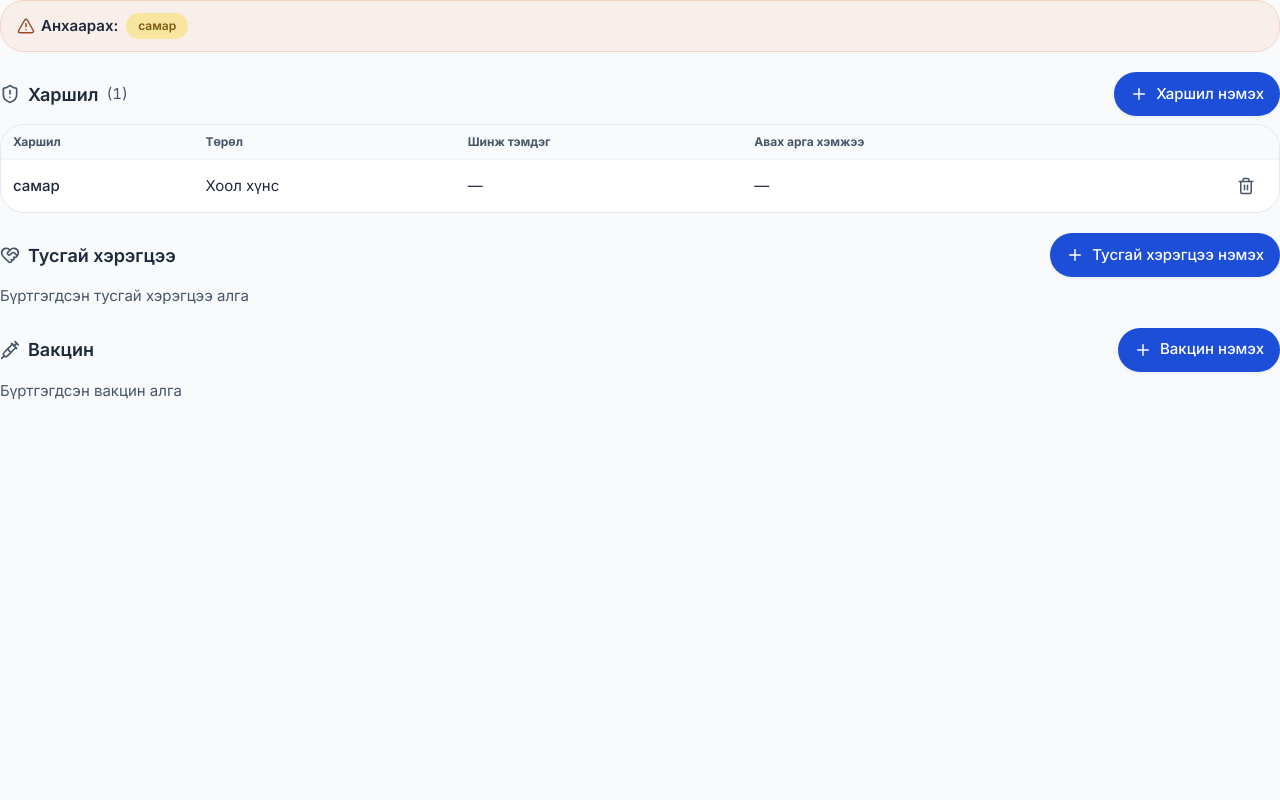
it: устгах — харшил › cancelling sends no request
The image size is (1280, 800).
Click the button named "самар — устгах" at (1246, 186), box [1221,164,1271,208]
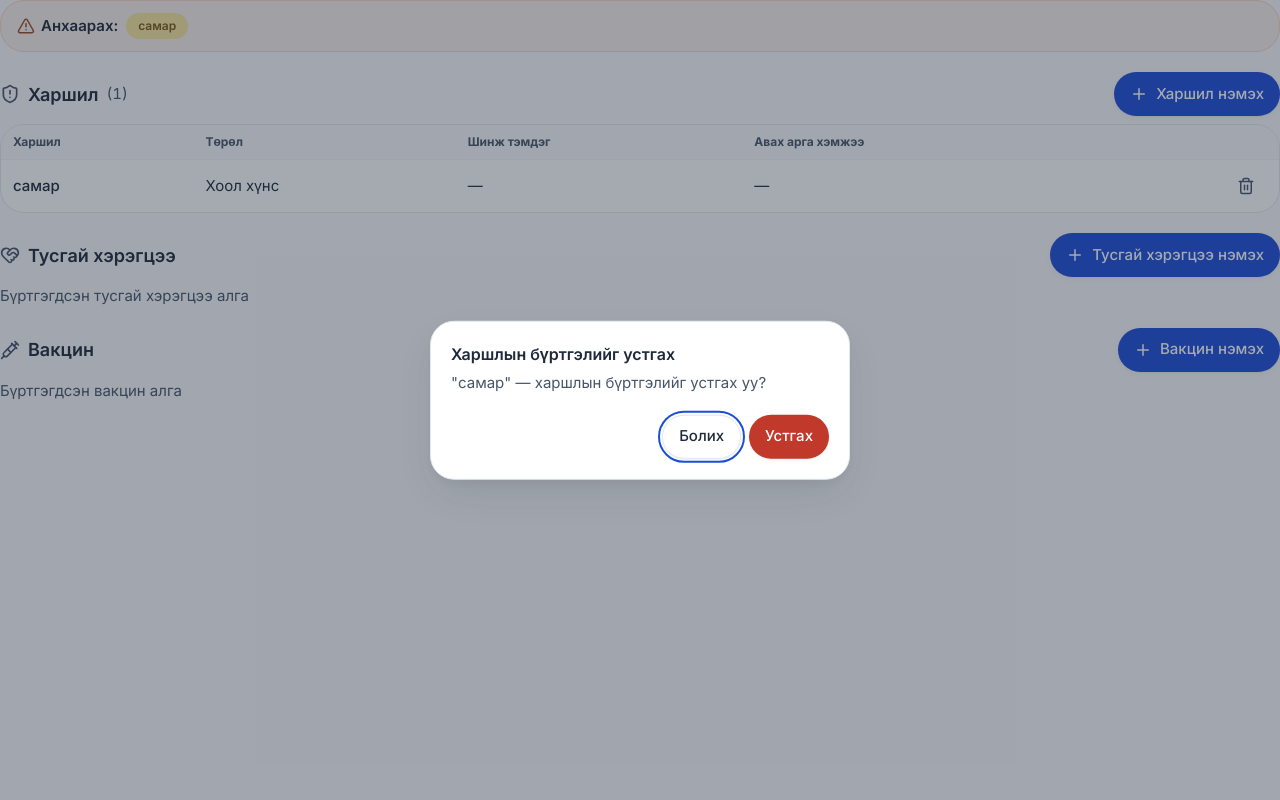
Click the button "Болих" at (702, 436), box [662,414,741,458]
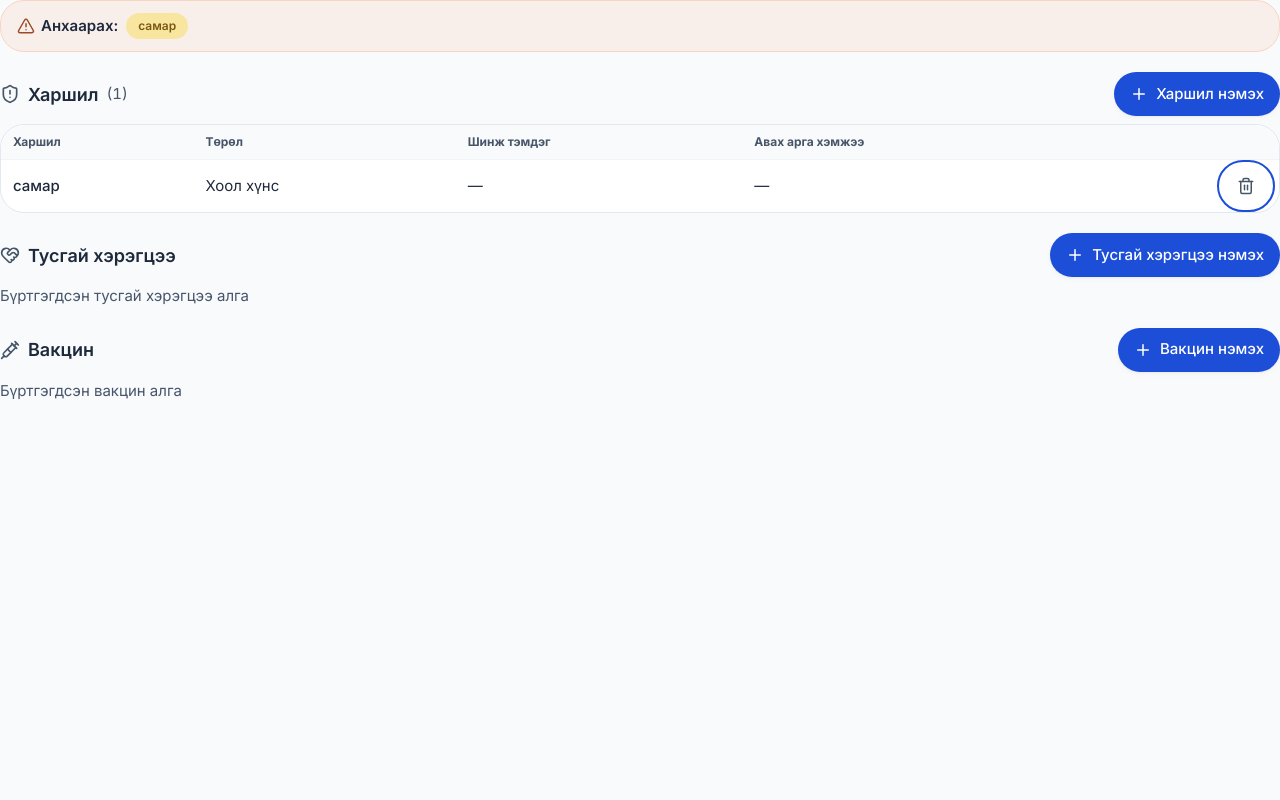
expect the dialog is gone: met
